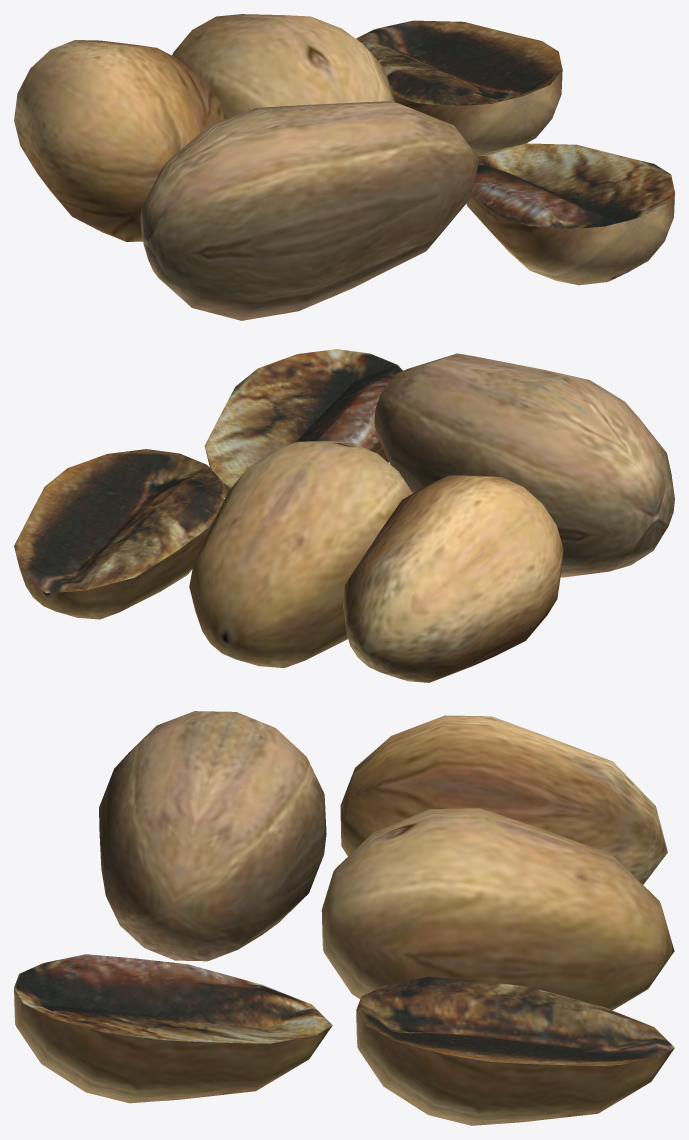
Rendered from badou.FBX.
3 renders of one model, top to bottom at view 1: azimuth 30°, elevation 25°; view 2: azimuth 150°, elevation 25°; view 3: azimuth 270°, elevation 25°, orthographic. The views are drawn at different scales.
Visible parts, largest first — view 1: Sphere003, Sphere001, Sphere004, Sphere005, Sphere002; view 2: Sphere003, Sphere001, Sphere002, Sphere005, Sphere004; view 3: Sphere002, Sphere003, Sphere005, Sphere004, Sphere001.
Boxes of the visible parts, x1,y1,x2,y2 form: Sphere003: (140,101,479,320); Sphere001: (14,40,224,241); Sphere004: (466,143,674,285); Sphere005: (356,20,562,156); Sphere002: (172,14,395,118); Sphere003: (374,353,674,577); Sphere001: (343,475,563,682); Sphere002: (189,441,412,667); Sphere005: (14,449,224,619); Sphere004: (204,349,402,497); Sphere002: (321,808,674,1010); Sphere003: (99,711,326,961); Sphere005: (356,976,674,1125); Sphere004: (14,954,332,1103); Sphere001: (340,715,667,884).
Bounding box in the file's own units: 513 × 200 × 516.
